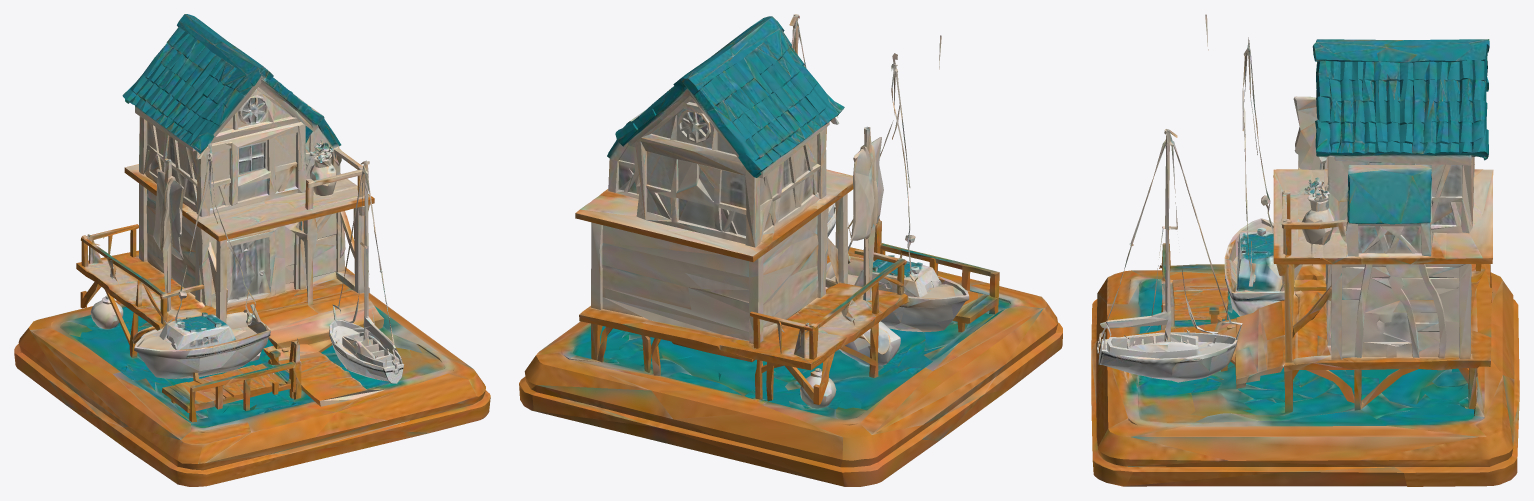
Rendered from lm_marina.glb.
3 renders of one model, left to right at view 1: azimuth 30°, elevation 25°; view 2: azimuth 150°, elevation 25°; view 3: azimuth 270°, elevation 25°, orthographic. The views are drawn at different scales.
Bounding box in the file's own units: 1.9 × 1.79 × 1.9.
1 material, 1 textured.
